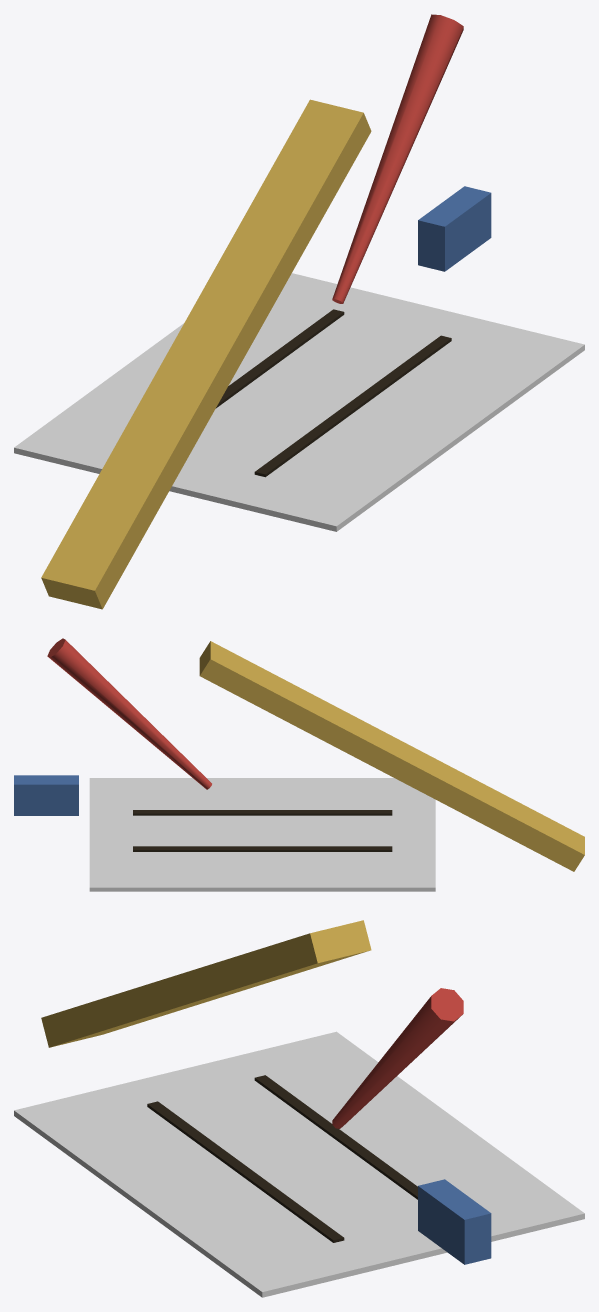
The model's file is design_tools.glb.
3 views of the same model, one above another, from view 1: azimuth 30°, elevation 25°; view 2: azimuth 150°, elevation 25°; view 3: azimuth 270°, elevation 25° (orthographic). The views are drawn at different scales.
Size of the model in its own units: 1.18 by 0.5696 by 0.9196.
